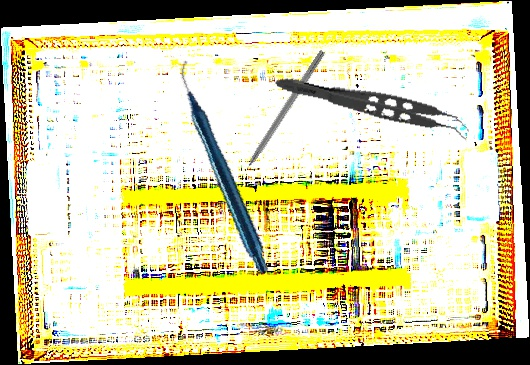Handpiece: (137, 59, 313, 275)
Hook Surgical: (233, 48, 327, 185)
Tissue Forceps: (270, 72, 474, 143)
